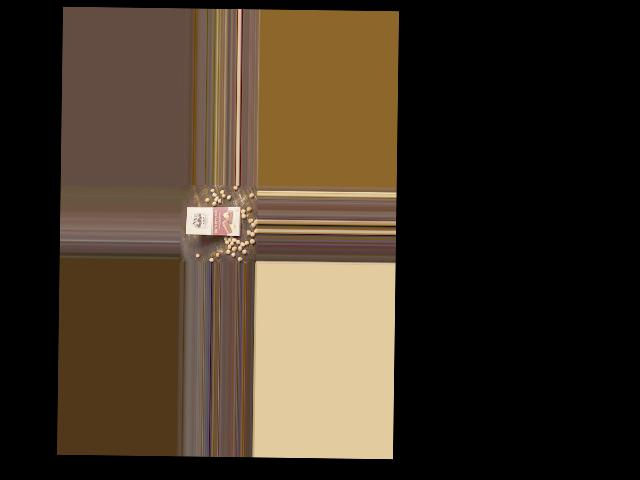chocolate: (184, 204, 242, 238)
